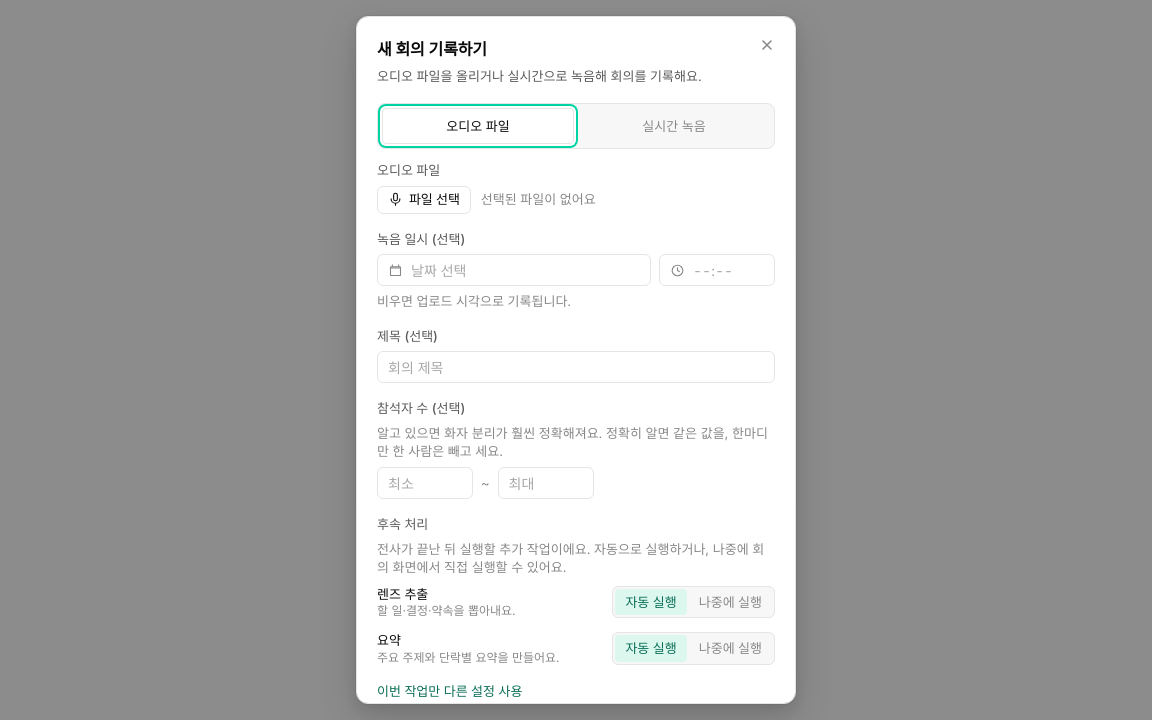
Scenario: 입력 장치가 없으면 녹음을 막는다
Press the mouse on the tab "실시간 녹음" at point(674, 126), box [578, 108, 770, 144]
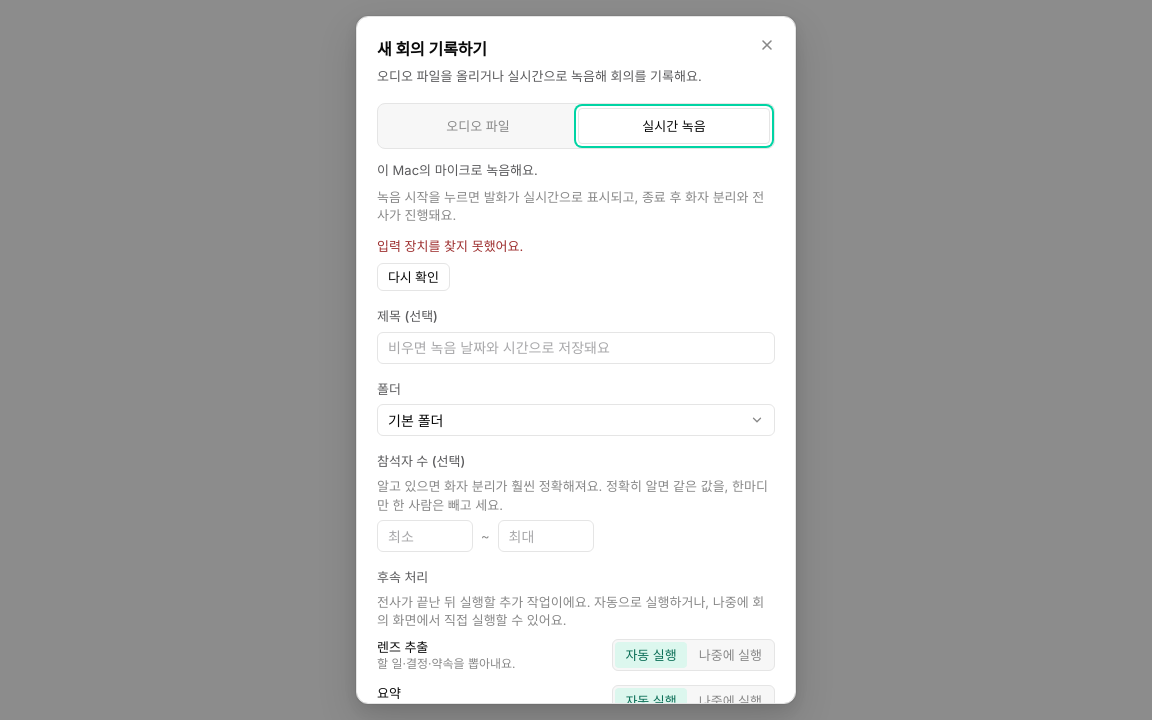
Expected: the text "입력 장치를 찾지 못했어요." is shown, [377, 237, 523, 255]
